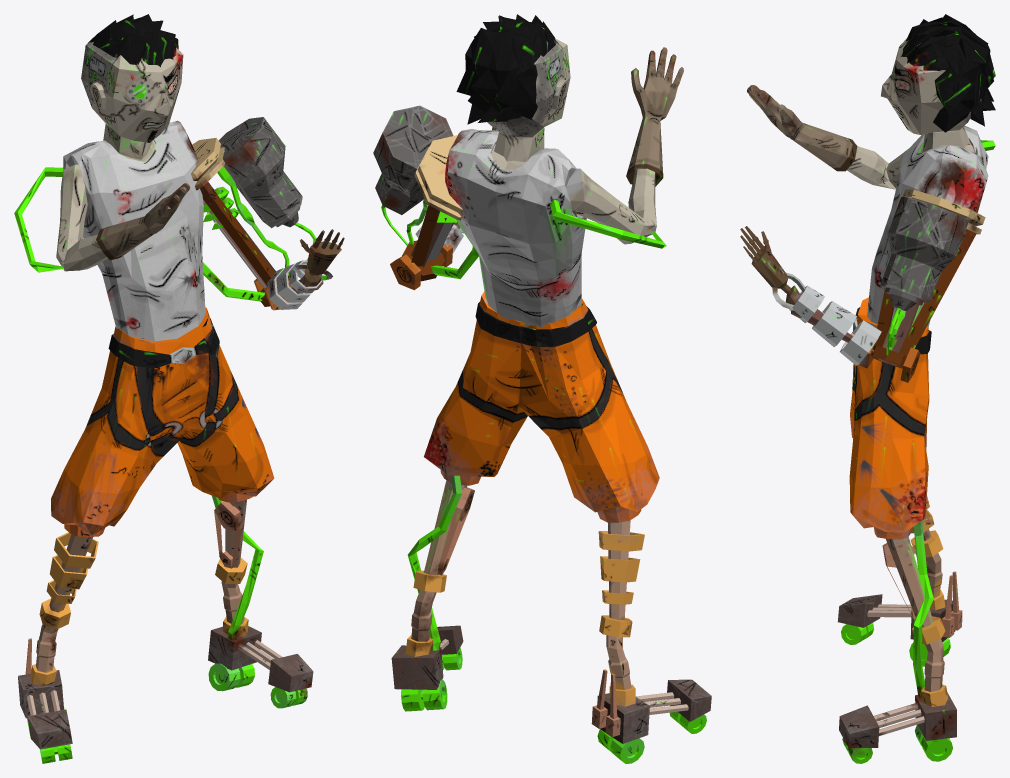
Rendered from CyborgFINALAnimation_000024.obj.
3 views of the same model, side by side, from view 1: azimuth 30°, elevation 25°; view 2: azimuth 150°, elevation 25°; view 3: azimuth 270°, elevation 25° (orthographic). The views are drawn at different scales.
Parts seen in each view (by area): view 1: CyborgMesh_Cube.002; view 2: CyborgMesh_Cube.002; view 3: CyborgMesh_Cube.002.
Boxes of the visible parts, box(x1,y1,x2,y2) form: CyborgMesh_Cube.002: box(14, 14, 344, 763); CyborgMesh_Cube.002: box(373, 14, 711, 763); CyborgMesh_Cube.002: box(740, 14, 995, 763).
Size of the model in its own units: 4.32 by 9.58 by 3.22.
